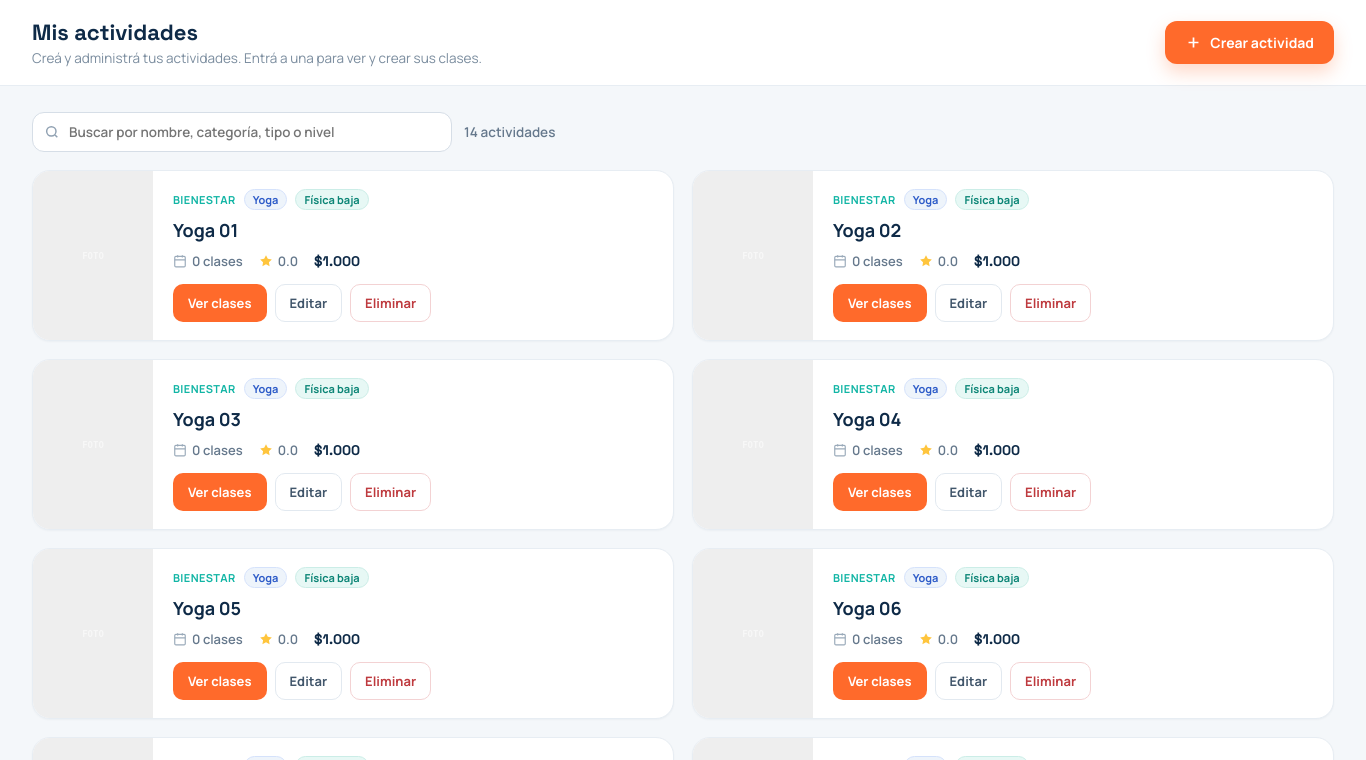
Test: mis actividades › sin coincidencias lo dice
Expected: the text "14 actividades" is shown, [464,123,555,141]
Type "boxeo" into the search field named "Buscar actividades" at x=242, y=132, box [32,112,452,152]
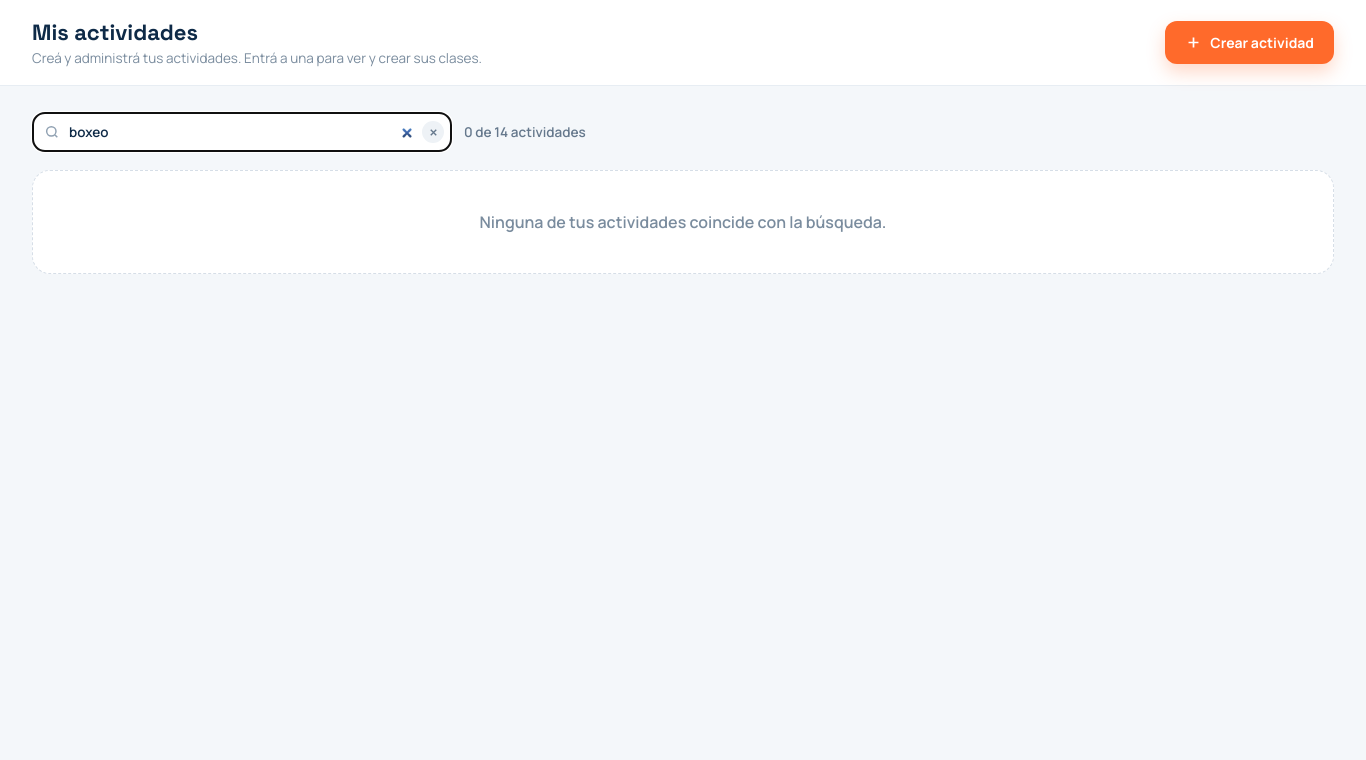
Expected: the text "Ninguna de tus actividades coincide con la búsqueda." is shown, [32,170,1334,274]
